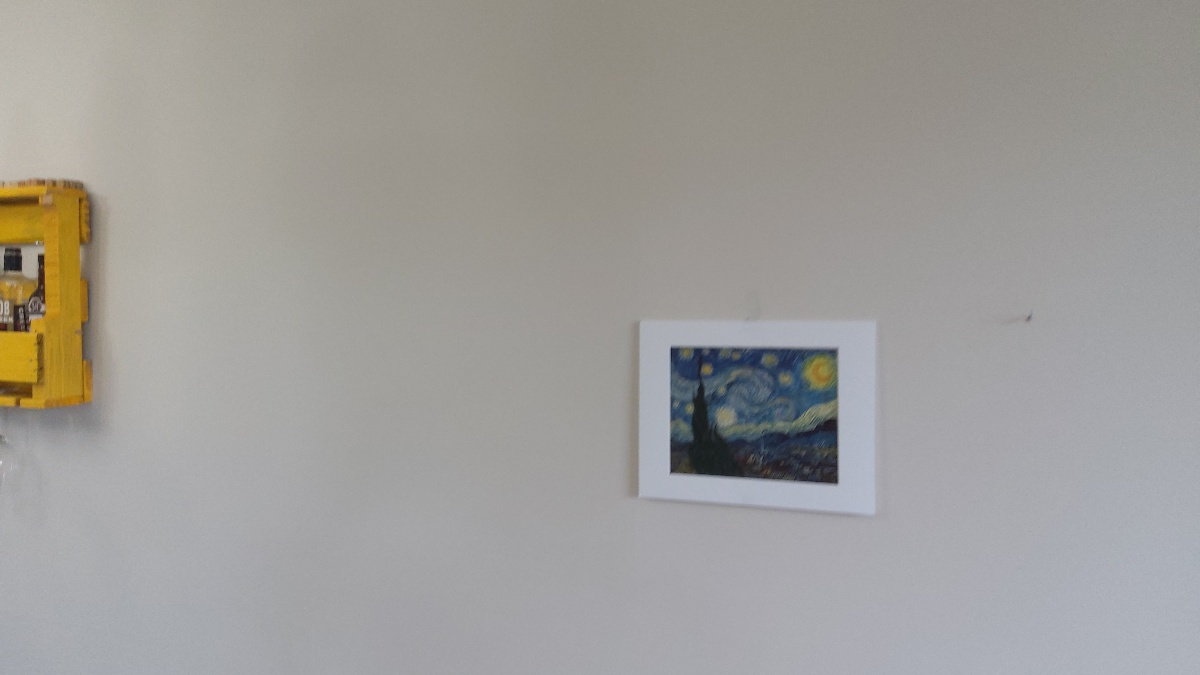painting: (662, 340, 846, 491)
